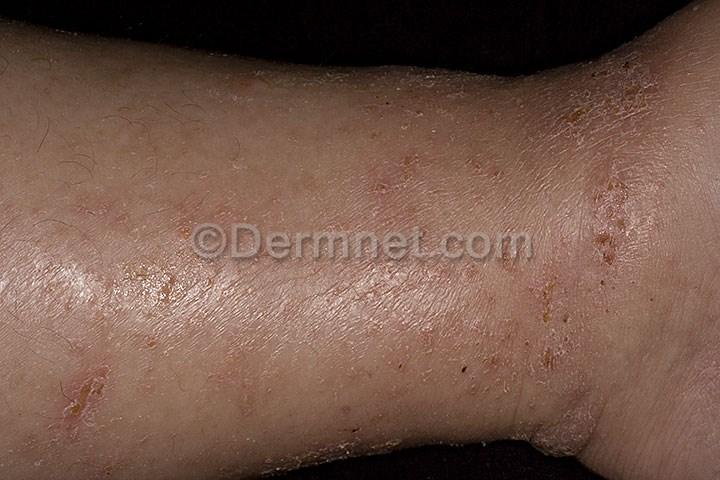Eczema: (341, 124, 520, 222), (482, 270, 608, 392), (36, 345, 171, 455), (558, 159, 672, 279), (551, 68, 671, 141)
